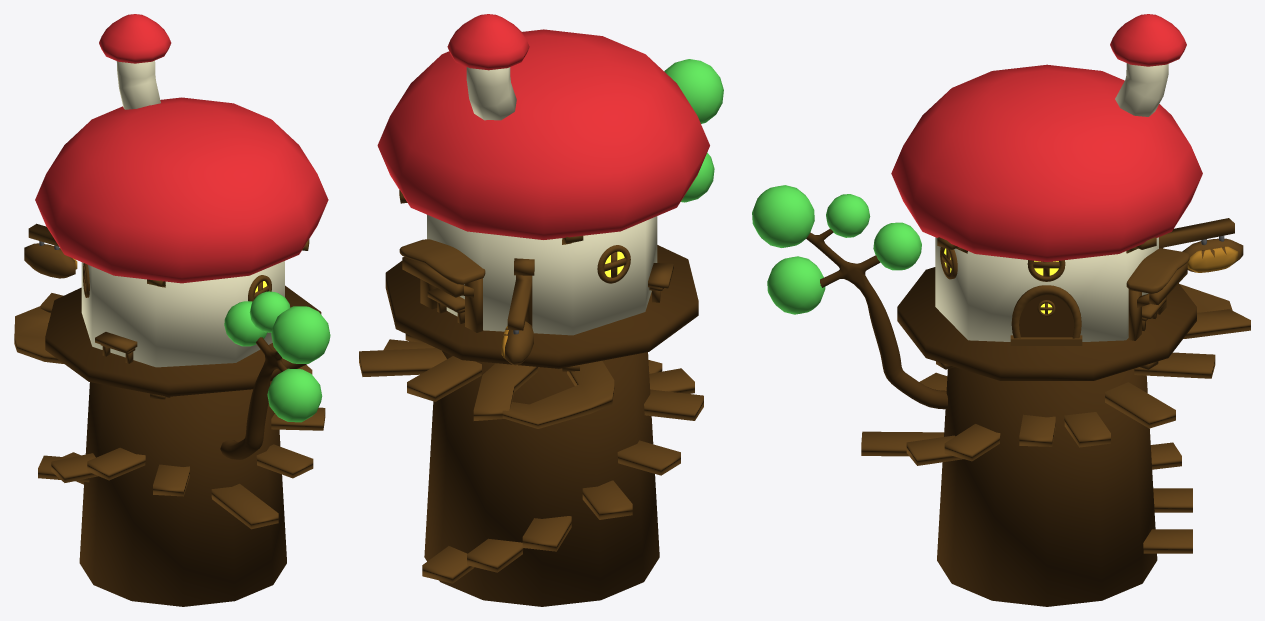
The model's file is Bakery.glb.
The picture shows the model from 3 angles, left to right: view 1: azimuth 30°, elevation 25°; view 2: azimuth 150°, elevation 25°; view 3: azimuth 270°, elevation 25°; orthographic projection. The views are drawn at different scales.
Parts seen in each view (by area): view 1: TreeBase, MushroomRoof, BakeryBase, TreeBranch, MushroomChimneyCap, BakerySignPost, MushroomChimneyStem, Cube.008, Cube.015, Cube.009, Cube.005, Cube.006 (+5 smaller); view 2: TreeBase, MushroomRoof, BakeryBase, BakeryDisplay, Cube.015, MushroomChimneyCap, TreeBranch, BakerySignPost, Cube.014, MushroomChimneyStem, Cube.011, Cube.013 (+9 smaller); view 3: TreeBase, MushroomRoof, TreeBranch, BakeryBase, BakeryDoor, BakeryDisplay, MushroomChimneyCap, BakerySignPost, MushroomChimneyStem, Cube.011, Cube.013, Cube.008 (+10 smaller).
Boxes of the visible parts, left/top/right/bottom form: TreeBase: left=45, top=285, right=321, bottom=606; MushroomRoof: left=35, top=97, right=328, bottom=283; BakeryBase: left=81, top=261, right=284, bottom=367; TreeBranch: left=220, top=291, right=330, bottom=459; MushroomChimneyCap: left=99, top=14, right=171, bottom=63; BakerySignPost: left=24, top=223, right=77, bottom=278; MushroomChimneyStem: left=116, top=60, right=160, bottom=109; Cube.008: left=211, top=483, right=278, bottom=529; Cube.015: left=14, top=306, right=63, bottom=363; Cube.009: left=256, top=444, right=313, bottom=478; Cube.005: left=87, top=447, right=145, bottom=480; Cube.006: left=153, top=464, right=189, bottom=496; TreeBase: left=385, top=245, right=698, bottom=606; MushroomRoof: left=377, top=29, right=709, bottom=239; BakeryBase: left=427, top=214, right=657, bottom=335; BakeryDisplay: left=399, top=239, right=485, bottom=332; Cube.015: left=502, top=360, right=614, bottom=428; MushroomChimneyCap: left=447, top=14, right=529, bottom=70; TreeBranch: left=664, top=59, right=723, bottom=202; BakerySignPost: left=501, top=258, right=534, bottom=365; Cube.014: left=473, top=363, right=537, bottom=420; MushroomChimneyStem: left=466, top=67, right=516, bottom=120; Cube.011: left=359, top=348, right=446, bottom=376; Cube.013: left=407, top=356, right=481, bottom=401; TreeBase: left=897, top=267, right=1196, bottom=606; MushroomRoof: left=891, top=64, right=1202, bottom=261; TreeBranch: left=752, top=185, right=947, bottom=409; BakeryBase: left=935, top=237, right=1158, bottom=341; BakeryDoor: left=1010, top=285, right=1082, bottom=345; BakeryDisplay: left=1126, top=248, right=1189, bottom=340; MushroomChimneyCap: left=1110, top=14, right=1186, bottom=66; BakerySignPost: left=1159, top=218, right=1243, bottom=272; MushroomChimneyStem: left=1115, top=63, right=1168, bottom=116; Cube.011: left=1105, top=382, right=1175, bottom=428; Cube.013: left=1134, top=352, right=1215, bottom=378; Cube.008: left=861, top=431, right=944, bottom=456.
Size of the model in its own units: 7.43 by 14.35 by 11.9.
